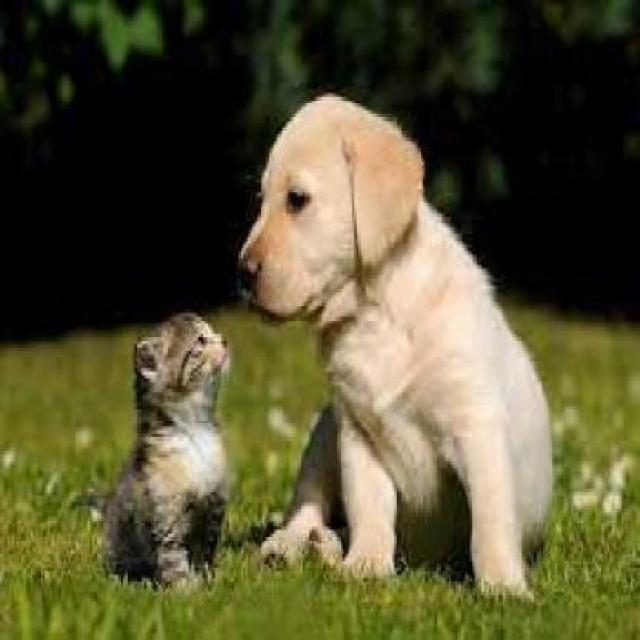cat: (73, 310, 236, 588)
dog: (234, 89, 557, 593)
